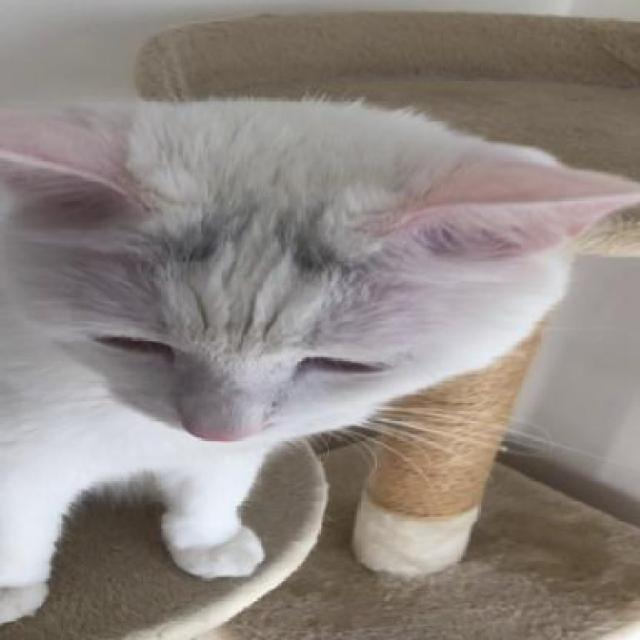cat-face: (1, 101, 633, 442)
